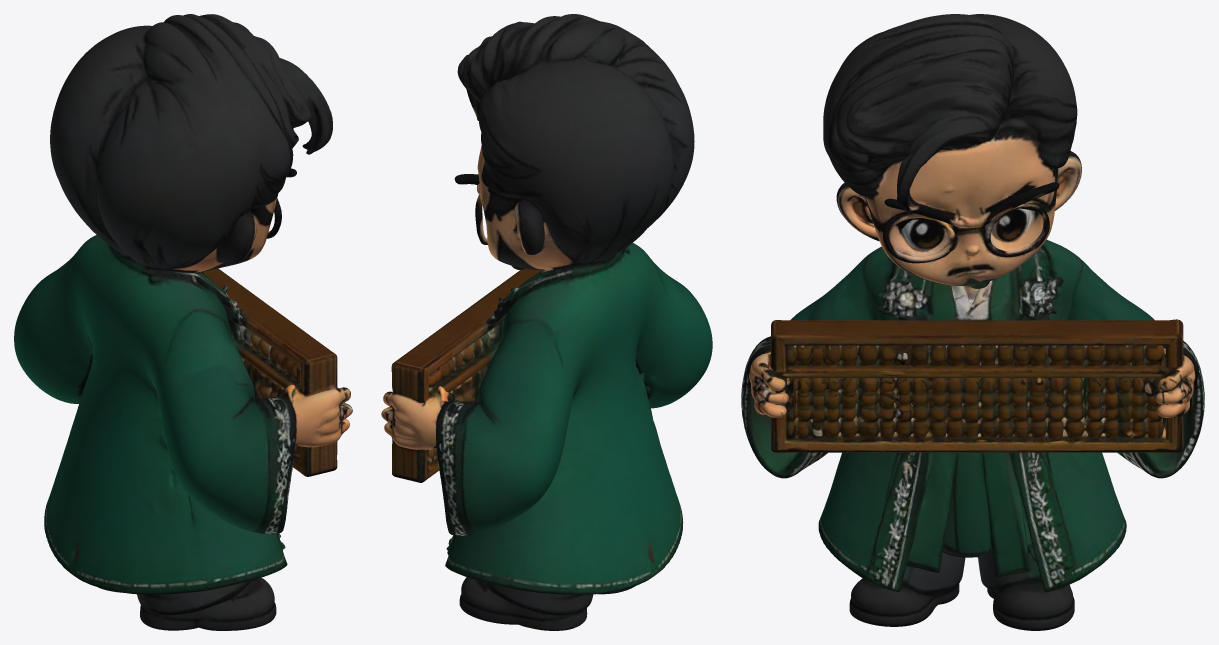
File: kanri.glb
3 renders of one model, left to right at view 1: azimuth 30°, elevation 25°; view 2: azimuth 150°, elevation 25°; view 3: azimuth 270°, elevation 25°, orthographic. The views are drawn at different scales.
Parts seen in each view (by area): view 1: tripo_node_8c0e4de3-18ae-46e1-bdf8-073113202159; view 2: tripo_node_8c0e4de3-18ae-46e1-bdf8-073113202159; view 3: tripo_node_8c0e4de3-18ae-46e1-bdf8-073113202159.
Boxes of the visible parts, x1=… form: tripo_node_8c0e4de3-18ae-46e1-bdf8-073113202159: x1=14, y1=14, x2=352, y2=630; tripo_node_8c0e4de3-18ae-46e1-bdf8-073113202159: x1=381, y1=14, x2=712, y2=630; tripo_node_8c0e4de3-18ae-46e1-bdf8-073113202159: x1=741, y1=14, x2=1204, y2=630.
Bounding box in the file's own units: 0.4336 × 1 × 0.7191.
1 material, 1 textured.
